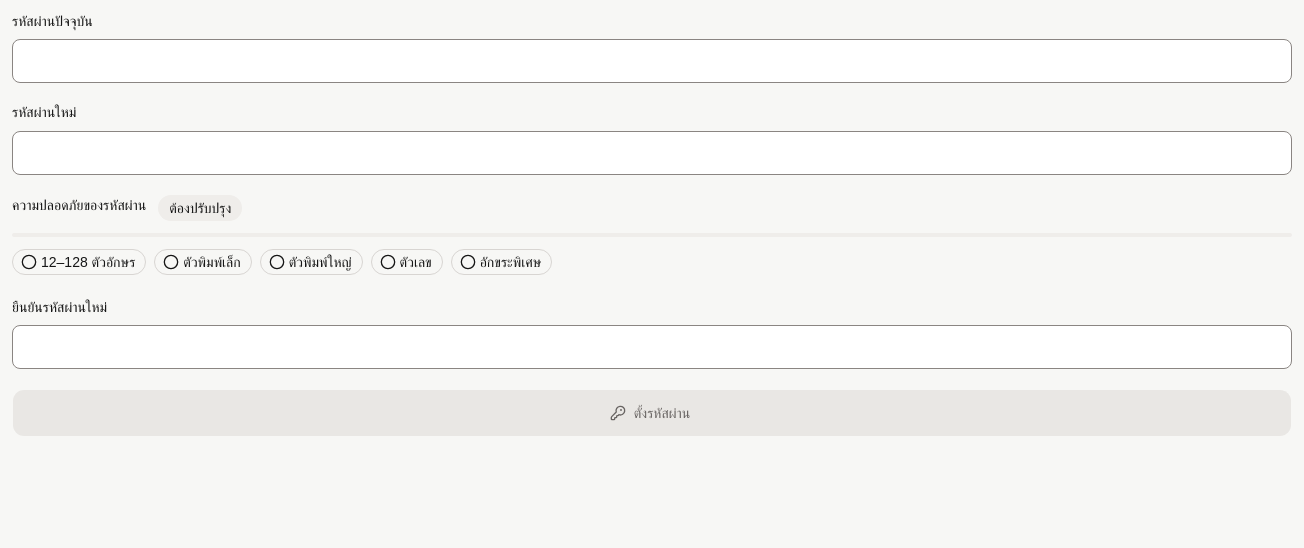
Test: Admin authentication forms › renders a Core password rejection as an actionable error
Type "temporary-password-value" into the password field labelled "รหัสผ่านปัจจุบัน" at {"x": 652, "y": 61}, box x1=12 y1=39 x2=1292 y2=83
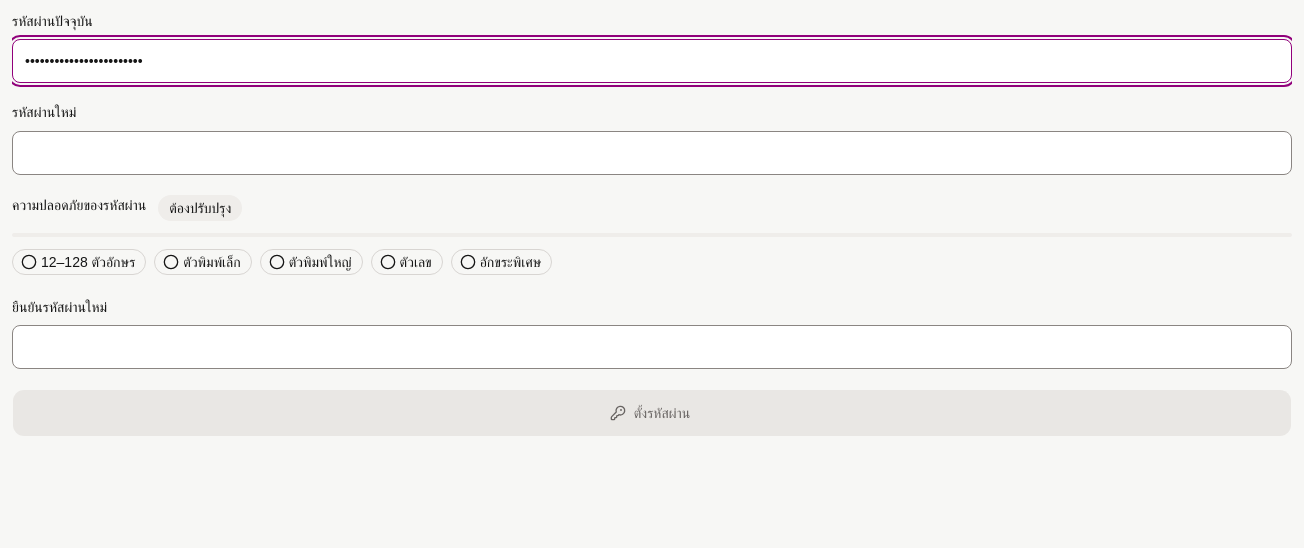
Type "Correct horse battery 1!" into the password field labelled "รหัสผ่านใหม่" at {"x": 652, "y": 152}, box x1=12 y1=130 x2=1292 y2=174
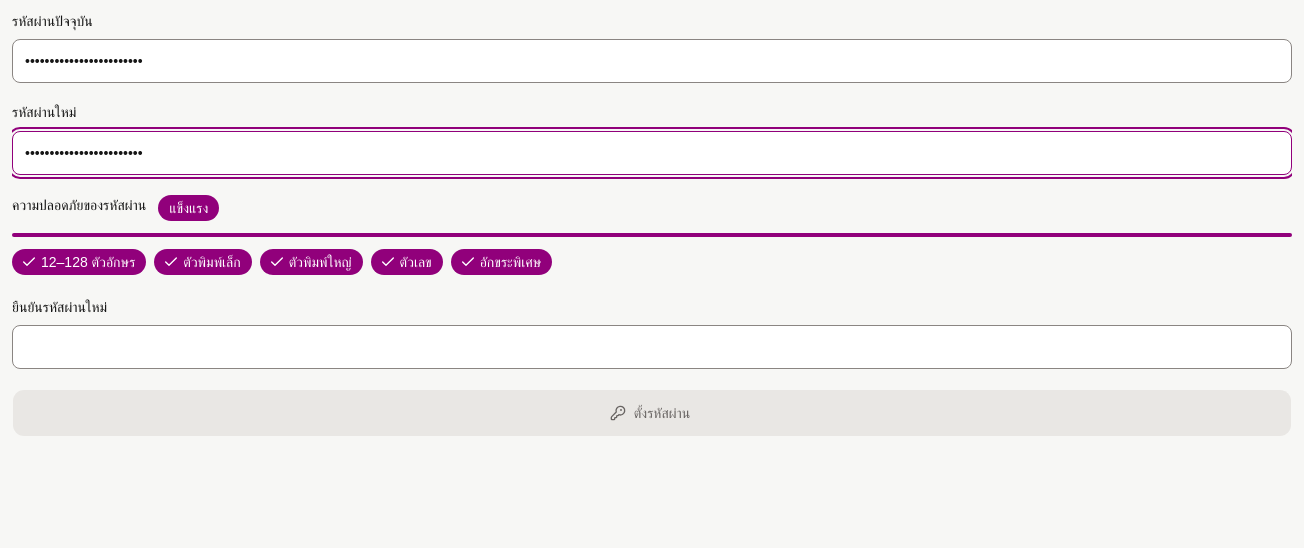
Type "Correct horse battery 1!" into the password field labelled "ยืนยันรหัสผ่านใหม่" at {"x": 652, "y": 347}, box x1=12 y1=325 x2=1292 y2=369
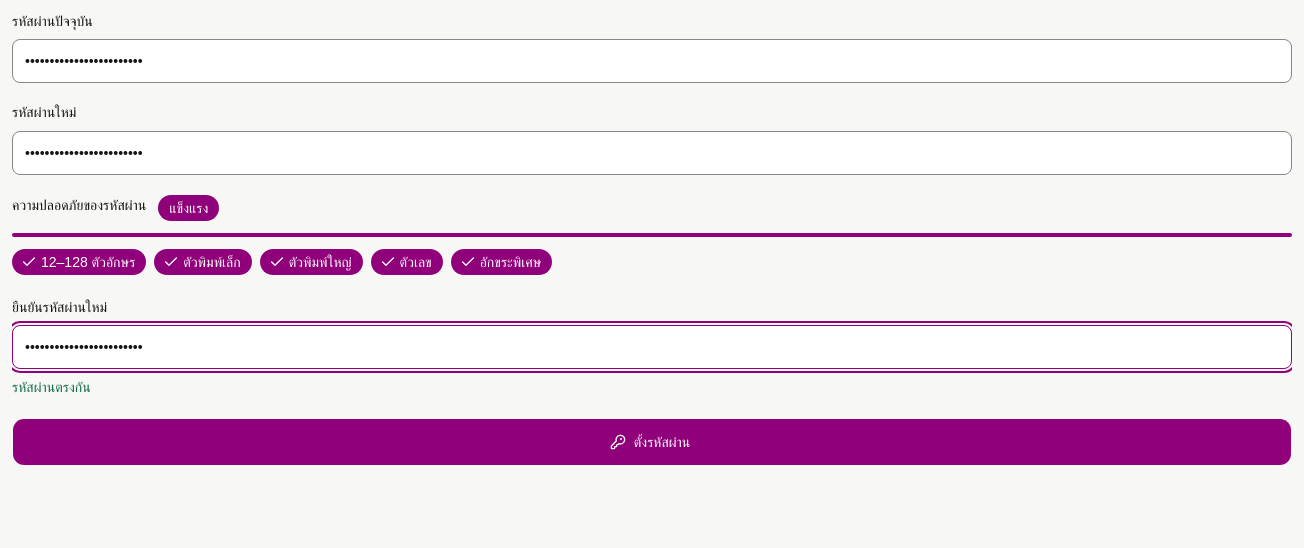
Click the button "ตั้งรหัสผ่าน" at {"x": 652, "y": 442}, box x1=12 y1=418 x2=1292 y2=466
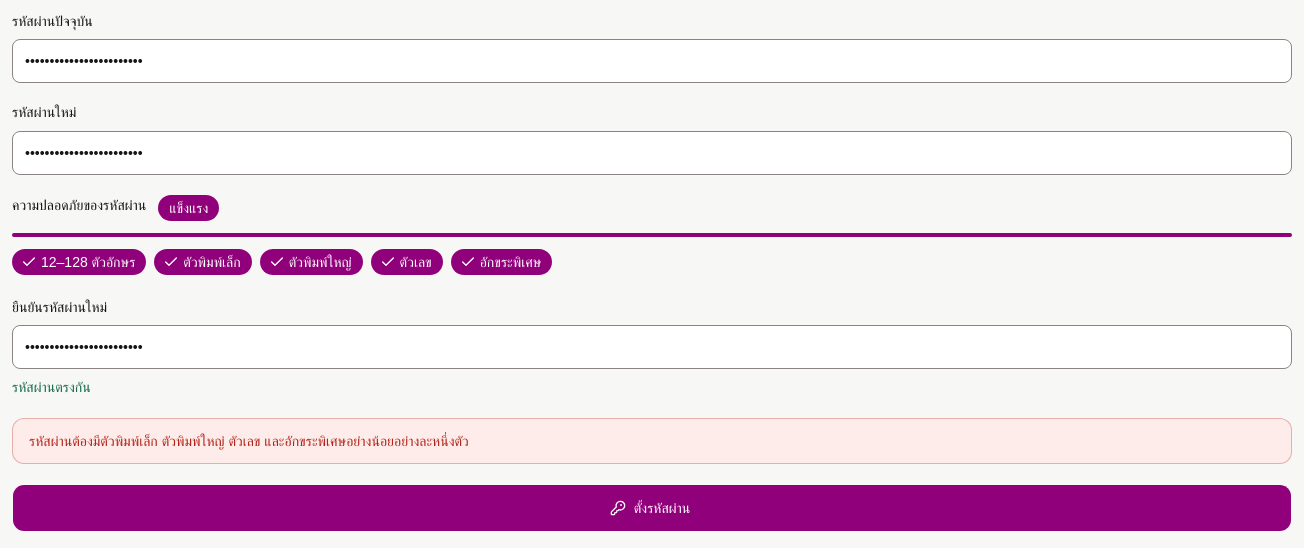
Expected: the message shows "รหัสผ่านต้องมีตัวพิมพ์เล็ก ตัวพิมพ์ใหญ่ ตัวเลข และอักขระพิเศษอย่างน้อยอย่างละหนึ่งตัว", x1=29 y1=433 x2=469 y2=449
